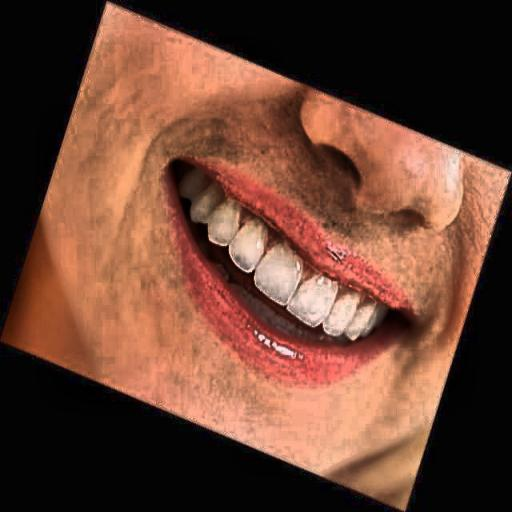Healthy: (151, 115, 414, 380)
